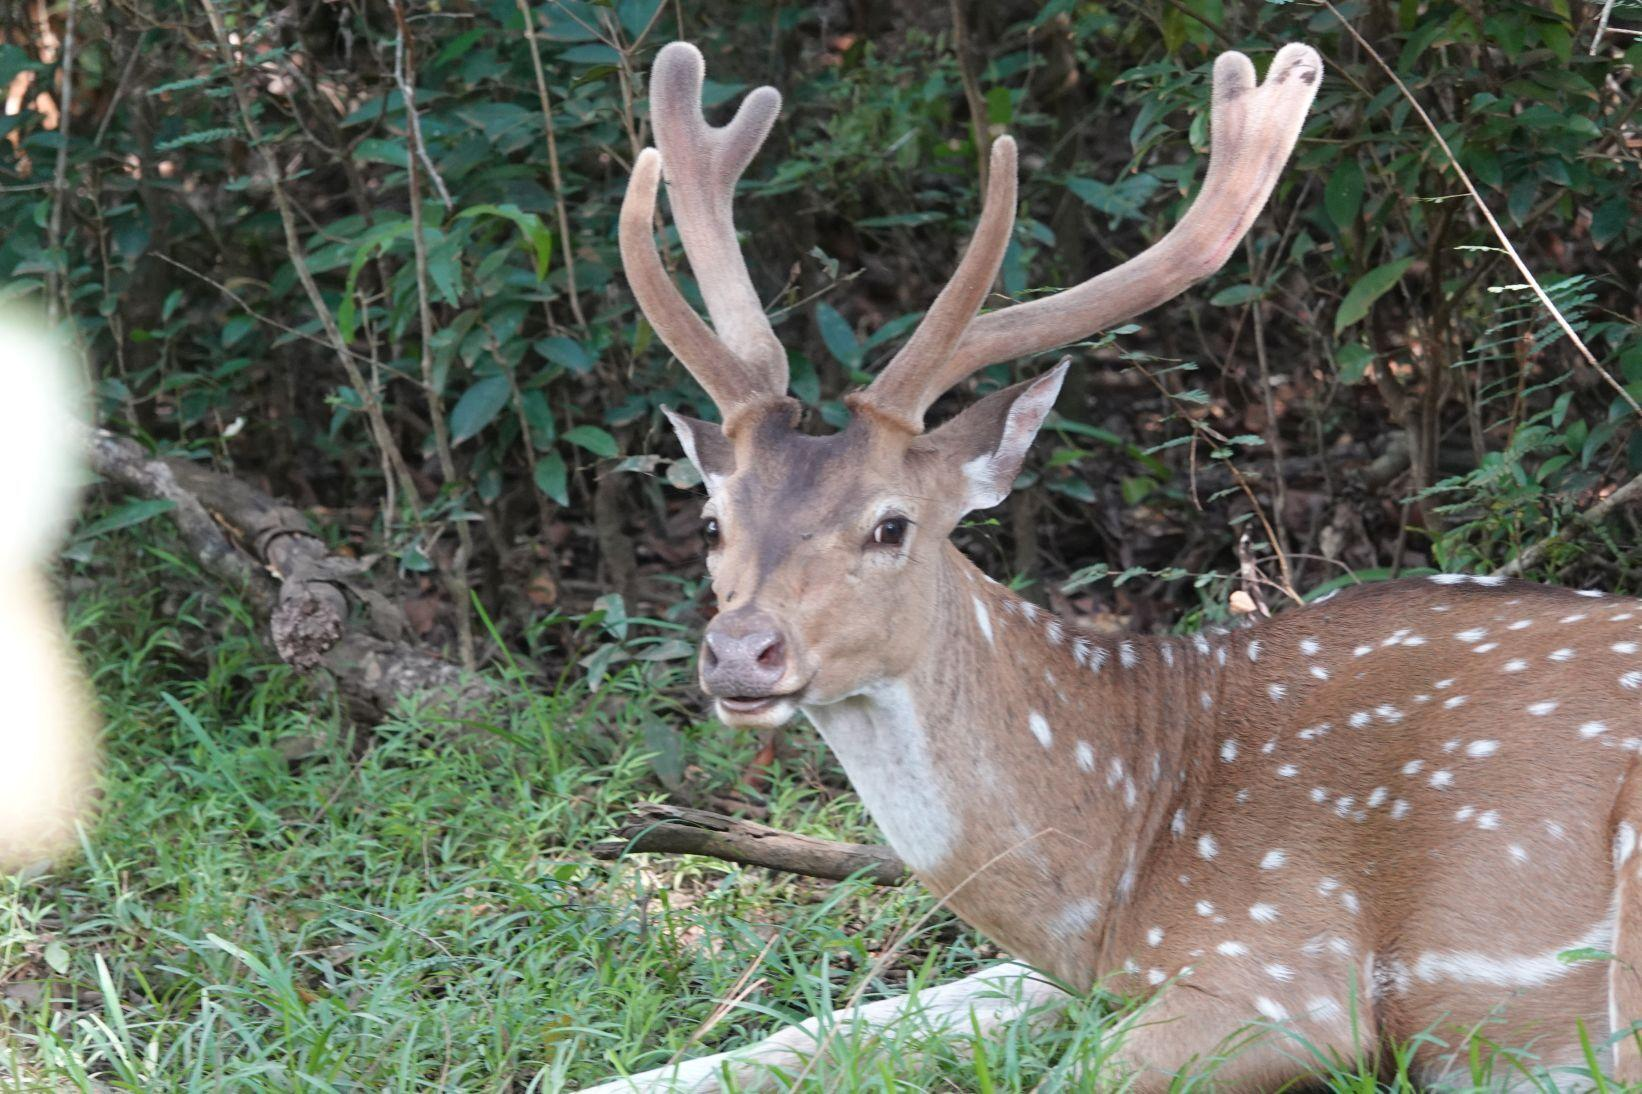Deer: (620, 43, 1641, 1093)
